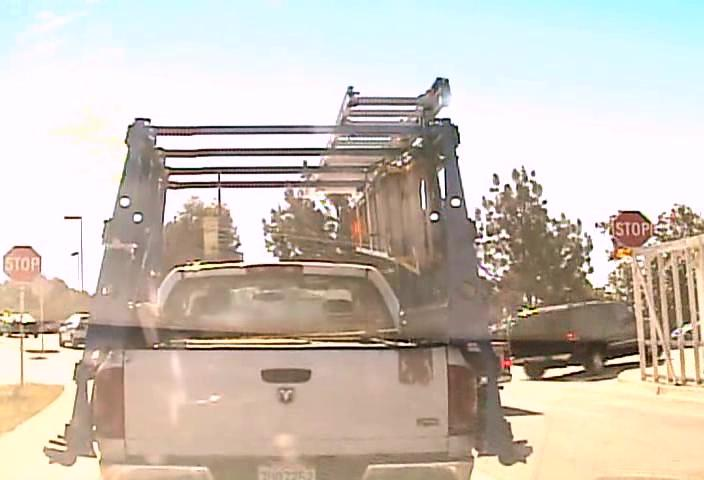stop: (611, 210, 653, 249)
